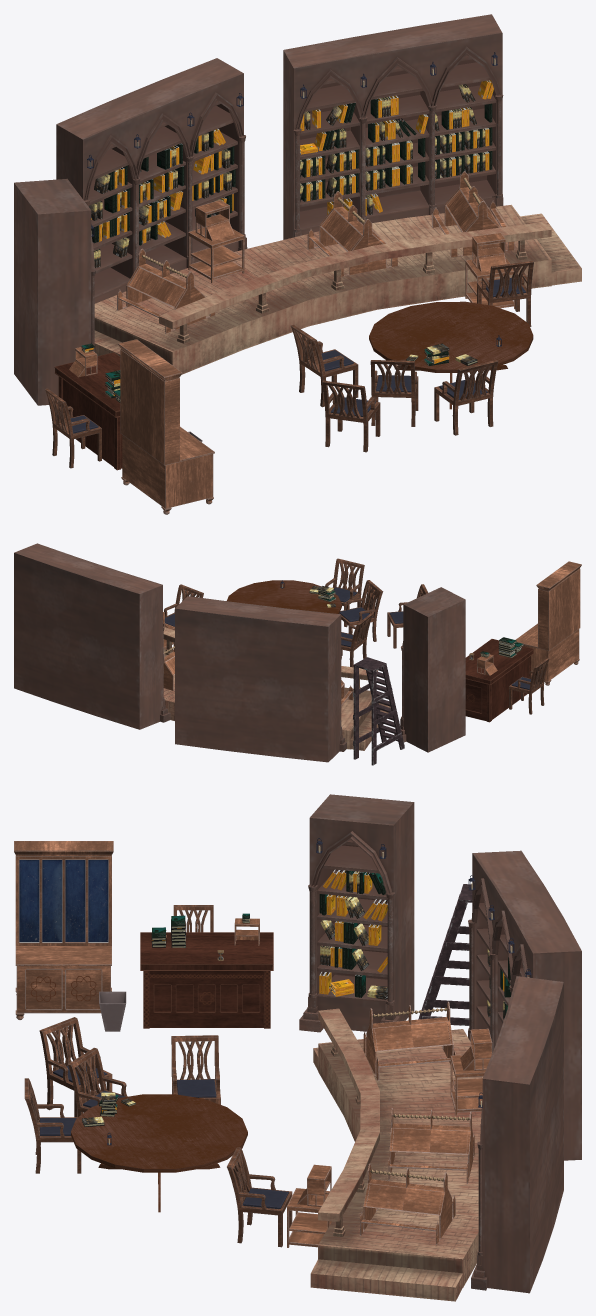
Rendered from Library.obj.
3 renders of one model, top to bottom at view 1: azimuth 30°, elevation 25°; view 2: azimuth 150°, elevation 25°; view 3: azimuth 270°, elevation 25°, orthographic. The views are drawn at different scales.
Visible parts, largest first — view 1: stage.001_stage2_0_stage2, shell.018_small_shell_0_small_shell, shell.001_shell_0_shell, Cube.013_long_table_0_long_table, shell.001_shell_0.001_shell, Cylinder.011_round_table_0_round_table, shell.016_shell_0_shell, shell.016_shell_0.001_shell, Cube.011_table_02_0_table_02, desk_desk1_0.001_desk1, desk_desk1_0_desk1, desk_desk1_0.002_desk1 (+23 smaller); view 2: shell.001_shell_0.001_shell, shell.001_shell_0_shell, shell.018_small_shell_0_small_shell, Cube.013_long_table_0_long_table, Cube.011_table_02_0_table_02, Cube.010_ladder_0_ladder, Cylinder.011_round_table_0_round_table, stage.001_stage2_0_stage2, Cube.023_chair_0.001_chair, Cube.023_chair_0.005_chair, Cube.023_chair_0_chair, Cube.023_chair_0.002_chair (+7 smaller); view 3: stage.001_stage2_0_stage2, shell.001_shell_0_shell, shell.001_shell_0.001_shell, Cylinder.011_round_table_0_round_table, Cube.013_long_table_0_long_table, shell.018_small_shell_0_small_shell, Cube.014_long_table_0_long_table, Cube.012_table_02_0_table_02, Cube.011_table_02_0_table_02, desk_desk1_0.002_desk1, shell.025_small_shell_0_small_shell, desk_desk1_0.001_desk1 (+26 smaller).
Boxes of the visible parts, box(x1,y1,x2,y2) form: stage.001_stage2_0_stage2: box(94, 204, 581, 374); shell.018_small_shell_0_small_shell: box(14, 179, 88, 405); shell.001_shell_0_shell: box(283, 14, 501, 239); Cube.013_long_table_0_long_table: box(118, 339, 214, 514); shell.001_shell_0.001_shell: box(56, 58, 241, 303); Cylinder.011_round_table_0_round_table: box(369, 301, 533, 372); shell.016_shell_0_shell: box(293, 32, 502, 230); shell.016_shell_0.001_shell: box(81, 72, 243, 274); Cube.011_table_02_0_table_02: box(54, 352, 122, 470); desk_desk1_0.001_desk1: box(116, 248, 215, 333); desk_desk1_0_desk1: box(307, 191, 398, 276); desk_desk1_0.002_desk1: box(432, 171, 514, 257); shell.001_shell_0.001_shell: box(175, 597, 341, 762); shell.001_shell_0_shell: box(14, 544, 162, 729); shell.018_small_shell_0_small_shell: box(403, 588, 465, 752); Cube.013_long_table_0_long_table: box(515, 561, 581, 685); Cube.011_table_02_0_table_02: box(465, 639, 533, 722); Cube.010_ladder_0_ladder: box(353, 657, 404, 765); Cylinder.011_round_table_0_round_table: box(227, 580, 341, 613); stage.001_stage2_0_stage2: box(163, 627, 390, 750); Cube.023_chair_0.001_chair: box(339, 580, 383, 641); Cube.023_chair_0.005_chair: box(509, 658, 549, 714); Cube.023_chair_0_chair: box(325, 558, 364, 627); Cube.023_chair_0.002_chair: box(341, 613, 373, 667); stage.001_stage2_0_stage2: box(310, 1008, 482, 1301); shell.001_shell_0_shell: box(482, 976, 563, 1293); shell.001_shell_0.001_shell: box(475, 850, 581, 1160); Cylinder.011_round_table_0_round_table: box(71, 1094, 247, 1172); Cube.013_long_table_0_long_table: box(14, 841, 113, 1019); shell.018_small_shell_0_small_shell: box(311, 794, 414, 1031); Cube.014_long_table_0_long_table: box(18, 859, 108, 943); Cube.012_table_02_0_table_02: box(149, 971, 263, 1027); Cube.011_table_02_0_table_02: box(140, 932, 273, 1028); desk_desk1_0.002_desk1: box(359, 1163, 455, 1244); shell.025_small_shell_0_small_shell: box(309, 816, 394, 1000); desk_desk1_0.001_desk1: box(363, 1001, 455, 1080).
Size of the model in its own units: 31.04 by 9.38 by 23.02.
